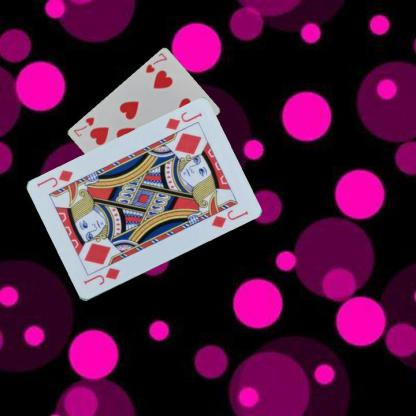7h: (143, 50, 168, 75)
Jd: (80, 265, 122, 287), (162, 110, 204, 132)
